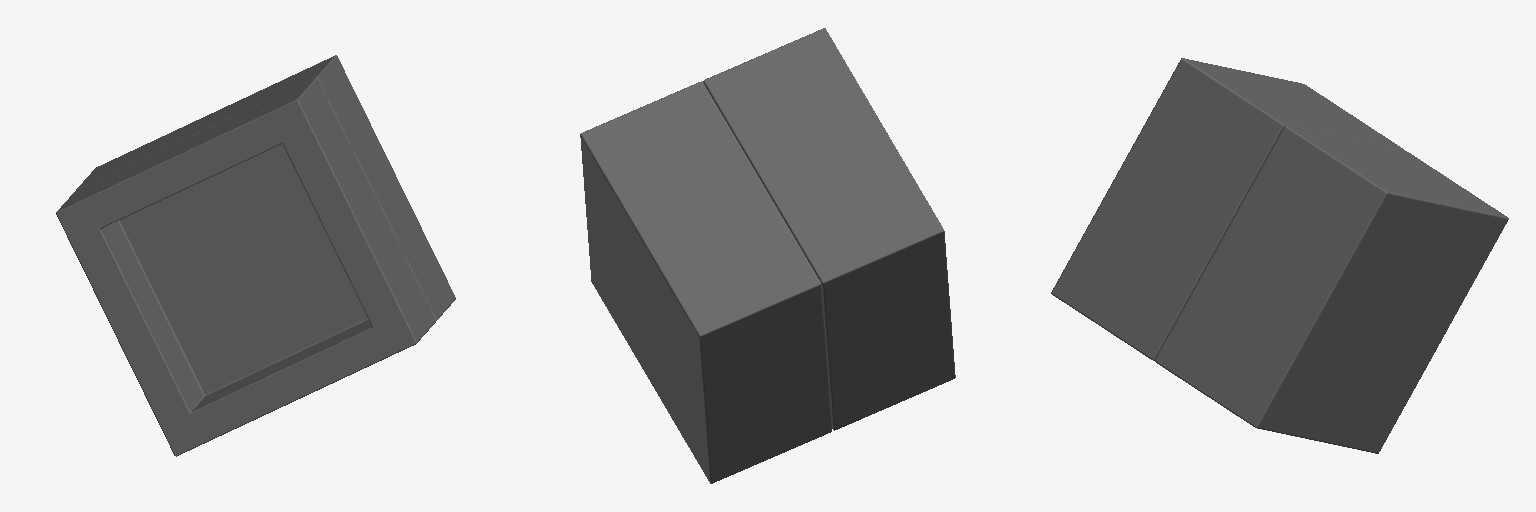
File: Cube_Coding.obj
3 views of the same model, side by side, from view 1: azimuth 30°, elevation 25°; view 2: azimuth 150°, elevation 25°; view 3: azimuth 270°, elevation 25° (orthographic).
Visible parts, largest first — view 1: Box006; view 2: Box006; view 3: Box006.
Boxes of the visible parts, box(x1,y1,x2,y2) form: Box006: box(56, 55, 455, 456); Box006: box(580, 28, 955, 483); Box006: box(1051, 58, 1508, 453).
Size of the model in its own units: 83.61 by 82.37 by 88.09.